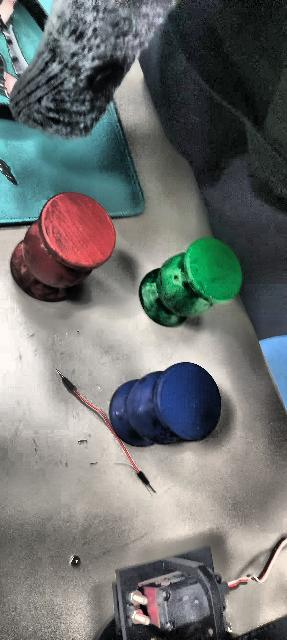blue: (110, 361, 222, 447)
green: (135, 233, 241, 327)
red: (13, 191, 115, 303)
